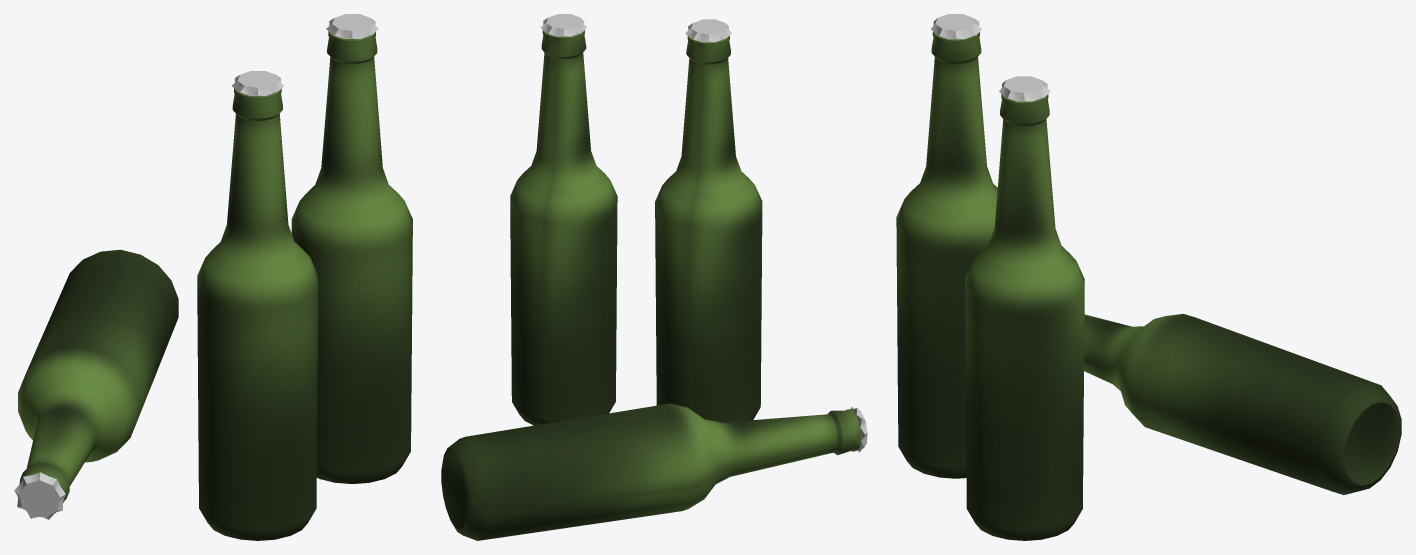
Rendered from soju9.obj.
3 renders of one model, left to right at view 1: azimuth 30°, elevation 25°; view 2: azimuth 150°, elevation 25°; view 3: azimuth 270°, elevation 25°, orthographic. The views are drawn at different scales.
Bounding box in the file's own units: 6.48 × 7.02 × 7.31.
